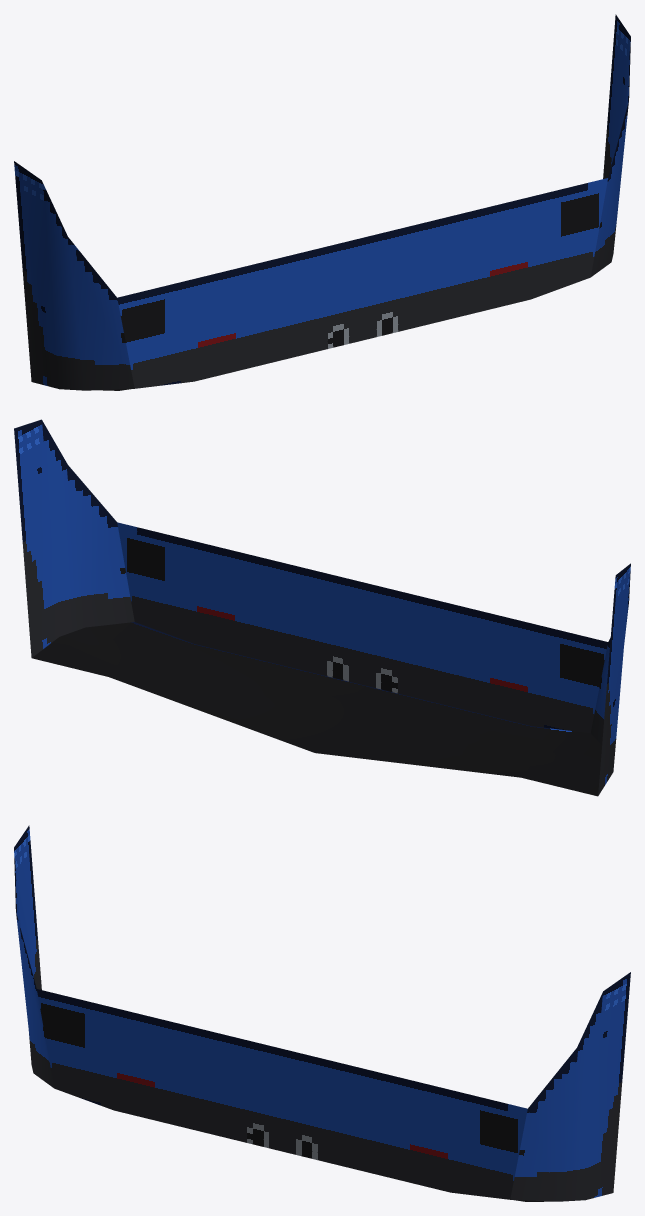
The model's file is bumper_R_stock.glb.
3 views of the same model, one above another, from view 1: azimuth 30°, elevation 25°; view 2: azimuth 150°, elevation 25°; view 3: azimuth 330°, elevation 25° (orthographic).
Parts seen in each view (by area): view 1: bumper_R_stock; view 2: bumper_R_stock; view 3: bumper_R_stock.
Boxes of the visible parts, x1,y1,x2,y2 form: bumper_R_stock: (14,14,630,390); bumper_R_stock: (14,419,630,796); bumper_R_stock: (14,825,630,1201).
Size of the model in its own units: 1.72 by 0.6842 by 0.2365.
Materials: 1 (1 with a texture image).
